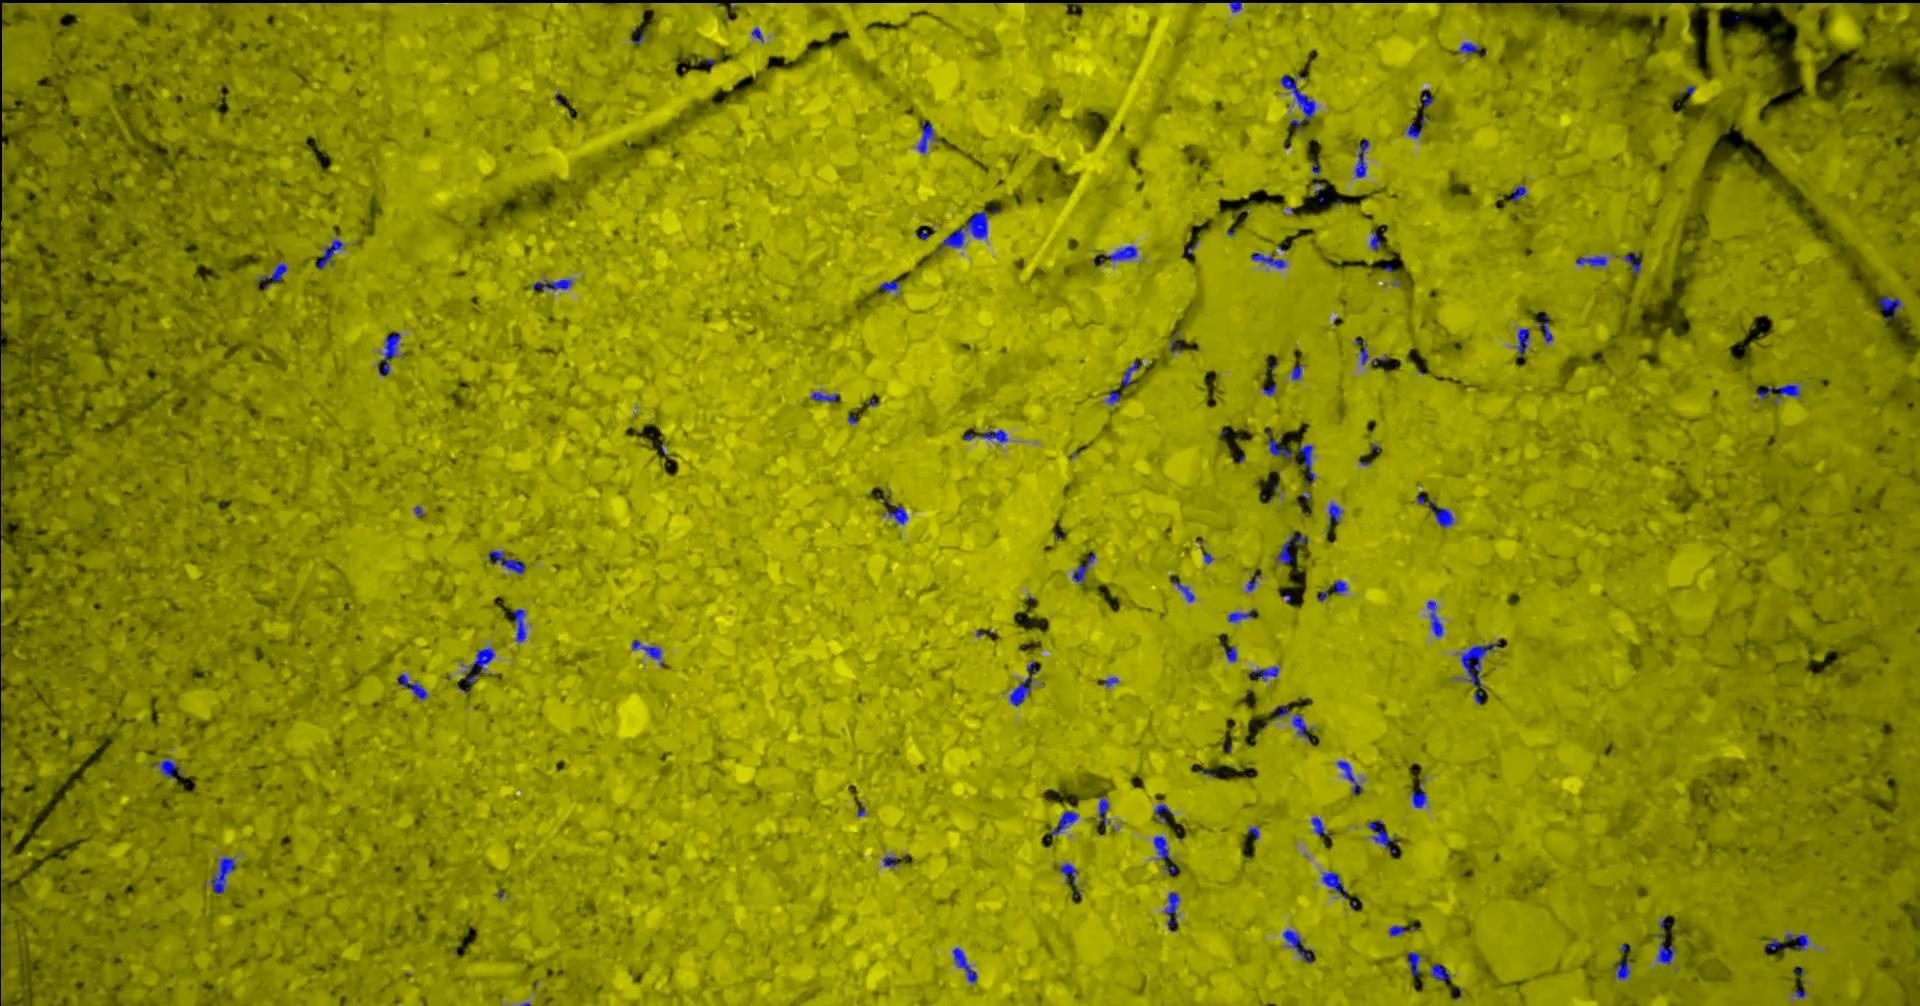ant: (1462, 638, 1503, 702), (938, 210, 989, 251), (1283, 74, 1317, 127), (458, 647, 497, 692), (1011, 661, 1041, 706), (378, 332, 405, 375), (1369, 819, 1401, 854), (1284, 929, 1316, 962), (1277, 533, 1309, 565), (212, 857, 237, 893), (490, 550, 527, 574), (258, 262, 290, 290), (1356, 337, 1388, 365), (1338, 760, 1364, 794), (632, 639, 664, 666), (954, 948, 978, 982), (317, 239, 345, 268), (399, 673, 429, 699), (1073, 551, 1097, 583), (1050, 810, 1079, 835), (1768, 934, 1810, 950), (1430, 500, 1455, 527), (1323, 871, 1349, 898), (1759, 384, 1802, 399), (1429, 600, 1445, 636), (1293, 713, 1314, 741), (1302, 445, 1317, 484), (1166, 892, 1181, 931), (919, 119, 937, 152), (1252, 251, 1288, 268), (1408, 114, 1432, 138), (1356, 138, 1371, 177), (154, 760, 183, 779), (1658, 934, 1677, 963), (1173, 578, 1196, 602), (1879, 297, 1905, 319), (966, 429, 1010, 442), (1105, 245, 1138, 260), (535, 279, 574, 292), (1539, 314, 1554, 343), (1517, 326, 1531, 358), (1250, 666, 1281, 680), (1269, 438, 1291, 457), (1624, 251, 1642, 276), (1123, 361, 1140, 385), (1313, 815, 1333, 836), (888, 506, 909, 525), (1413, 781, 1429, 808), (1156, 835, 1172, 859), (1229, 608, 1257, 622), (516, 608, 527, 641), (1062, 862, 1078, 885), (1407, 951, 1422, 976), (1432, 963, 1453, 981), (1100, 796, 1111, 827), (1390, 925, 1420, 936), (1330, 503, 1345, 525), (1577, 255, 1608, 265), (1156, 804, 1171, 823), (811, 391, 839, 401), (1617, 959, 1630, 979), (1420, 89, 1435, 107), (880, 279, 900, 292), (1262, 379, 1277, 395), (1459, 42, 1481, 53), (1371, 229, 1383, 250), (884, 855, 903, 868), (1512, 185, 1528, 201), (1335, 579, 1349, 594), (1274, 705, 1291, 716), (1107, 391, 1121, 404), (1293, 365, 1304, 380), (1227, 647, 1238, 661), (1230, 0, 1243, 11), (1478, 3, 1578, 3)
